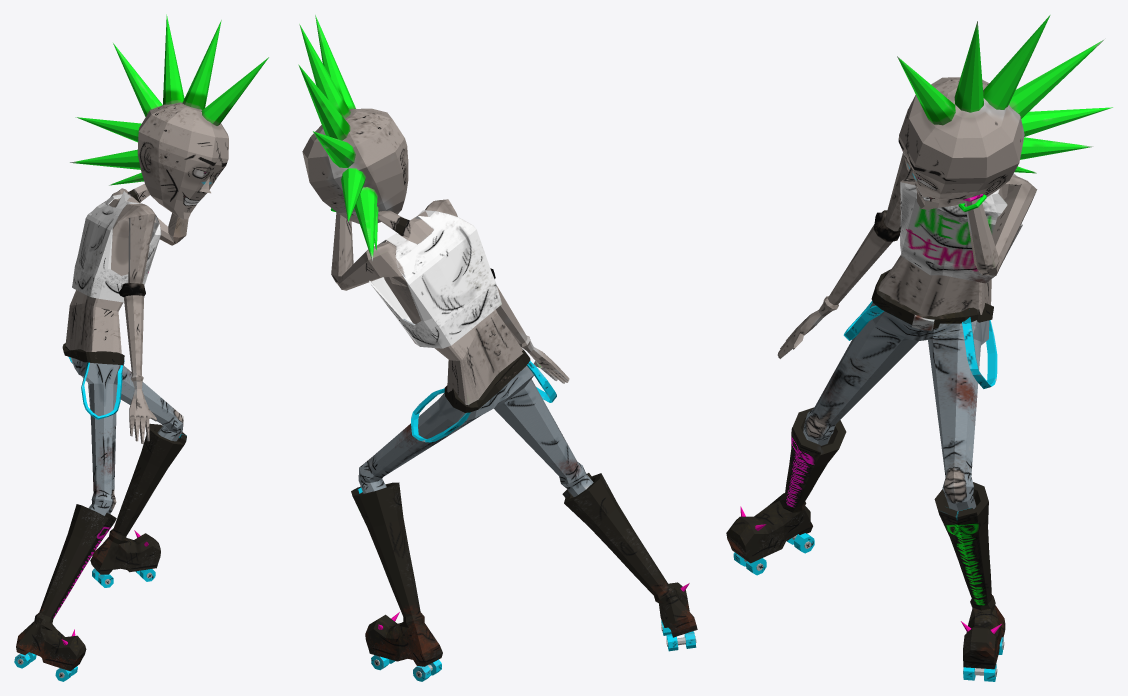
Rendered from punkAnimation_000011.obj.
3 views of the same model, side by side, from view 1: azimuth 30°, elevation 25°; view 2: azimuth 150°, elevation 25°; view 3: azimuth 270°, elevation 25° (orthographic). The views are drawn at different scales.
Visible parts, largest first — view 1: Cube.004_Cube.003; view 2: Cube.004_Cube.003; view 3: Cube.004_Cube.003.
Part boxes in pixels (<box>): Cube.004_Cube.003: <box>14,14,268,681</box>; Cube.004_Cube.003: <box>298,15,697,681</box>; Cube.004_Cube.003: <box>726,15,1112,681</box>.
Size of the model in its own units: 3.74 by 6.57 by 3.26.
